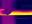Hotspot: (9, 11, 31, 15)
